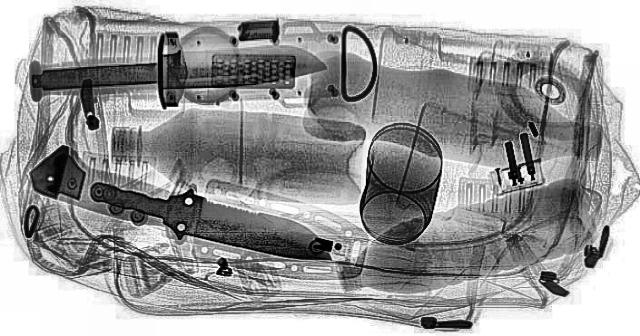Knife: (64, 164, 360, 276), (19, 21, 341, 117)
